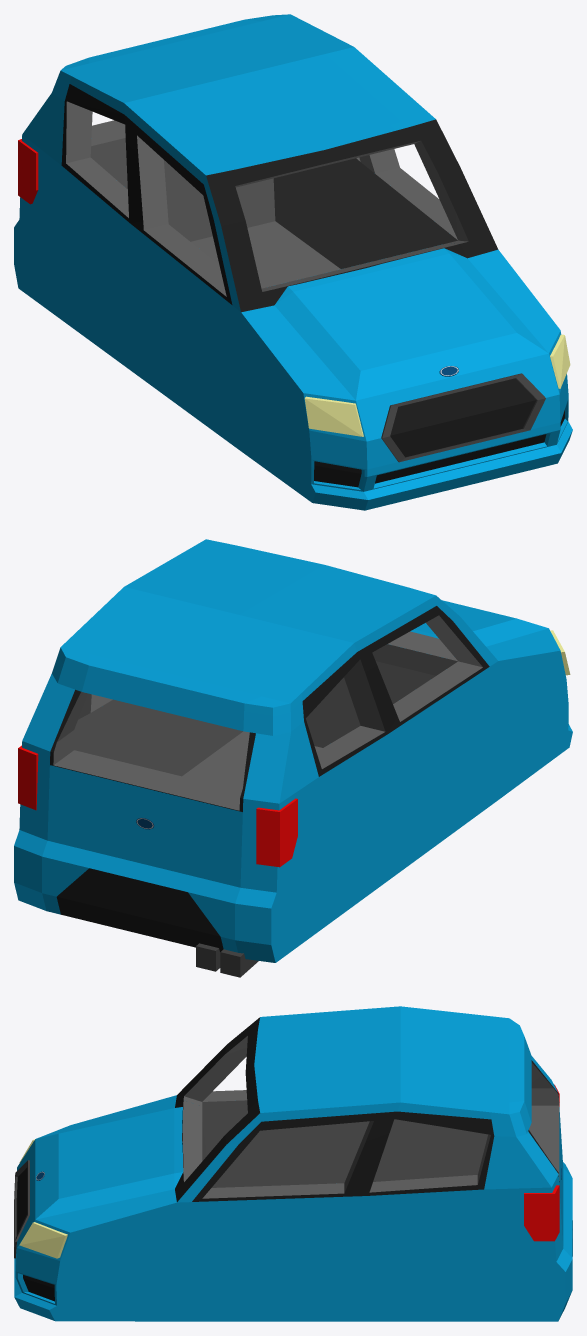
The model's file is fiesta.fbx.
3 views of the same model, one above another, from view 1: azimuth 30°, elevation 25°; view 2: azimuth 150°, elevation 25°; view 3: azimuth 270°, elevation 25° (orthographic). The views are drawn at different scales.
Visible parts, largest first — view 1: Cube; view 2: Cube; view 3: Cube.
Part boxes in pixels (left/top/right/bottom): Cube: left=14, top=14, right=572, bottom=510; Cube: left=14, top=539, right=572, bottom=977; Cube: left=14, top=1006, right=572, bottom=1321.
Bounding box in the file's own units: 248 × 239 × 536.
5 materials, 2 textured.
